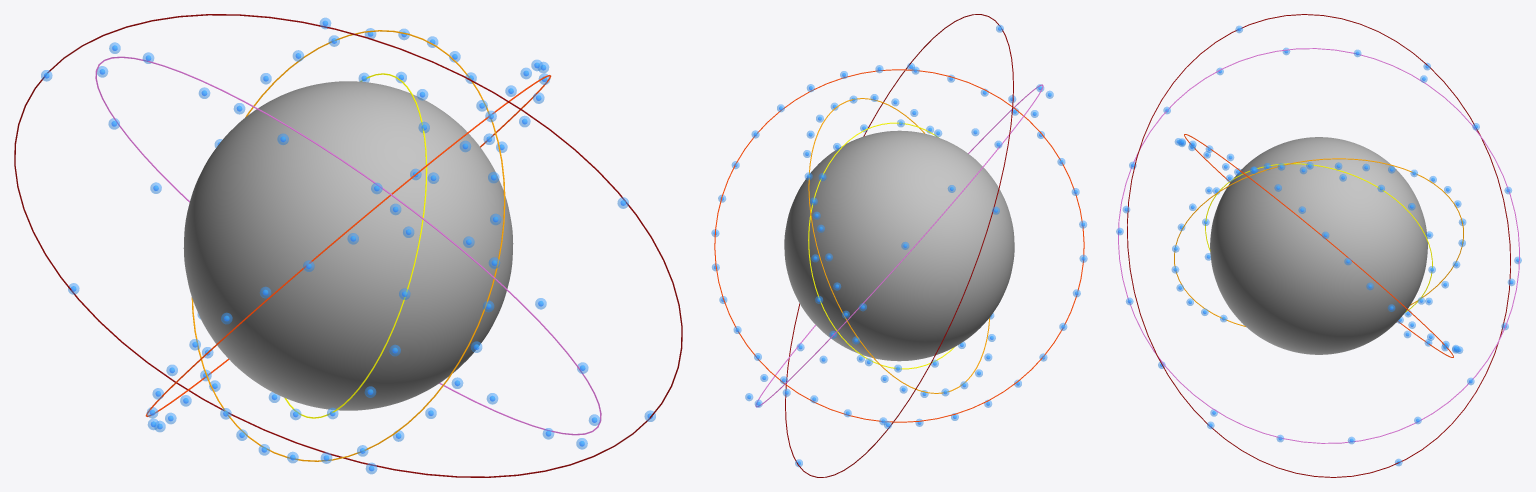
The picture shows the model from 3 angles, left to right: view 1: azimuth 30°, elevation 25°; view 2: azimuth 150°, elevation 25°; view 3: azimuth 270°, elevation 25°; orthographic projection. The views are drawn at different scales.
Parts seen in each view (by area): view 1: Lv, object 228, object 191, object 61, object 126, object 24; view 2: Lv, object 126, object 228, object 191, object 61, object 24; view 3: Lv, object 228, object 191, object 61, object 126, object 24.
Part boxes in pixels (x1,y1,x2,y2): Lv: (183, 81, 513, 410); object 228: (14, 14, 682, 477); object 191: (95, 56, 601, 435); object 61: (191, 30, 505, 461); object 126: (145, 75, 551, 416); object 24: (284, 73, 427, 418); Lv: (784, 130, 1014, 361); object 126: (714, 69, 1084, 422); object 228: (785, 14, 1013, 477); object 191: (755, 84, 1043, 407); object 61: (808, 98, 990, 393); object 24: (808, 122, 955, 369); Lv: (1210, 137, 1427, 354); object 228: (1127, 14, 1510, 477); object 191: (1118, 48, 1519, 443); object 61: (1174, 158, 1463, 326); object 126: (1184, 134, 1453, 357); object 24: (1205, 163, 1432, 312).
Bounding box in the file's own units: 7.08 × 8.79 × 8.37.
